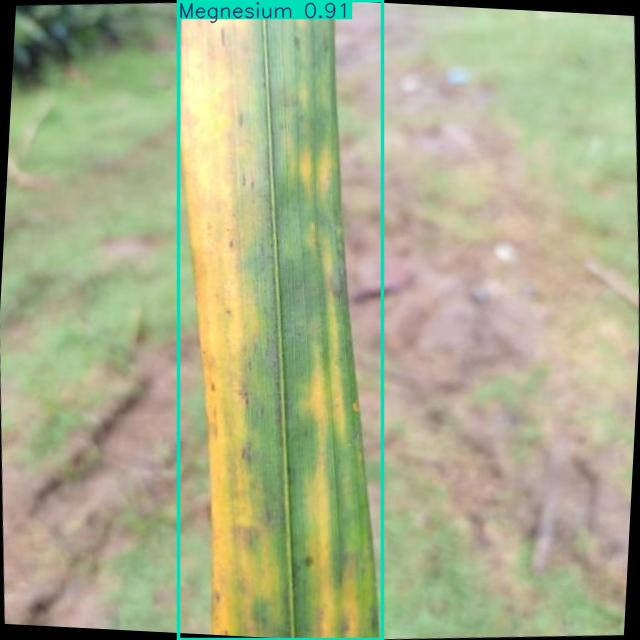Megnesium: (178, 0, 382, 640)
